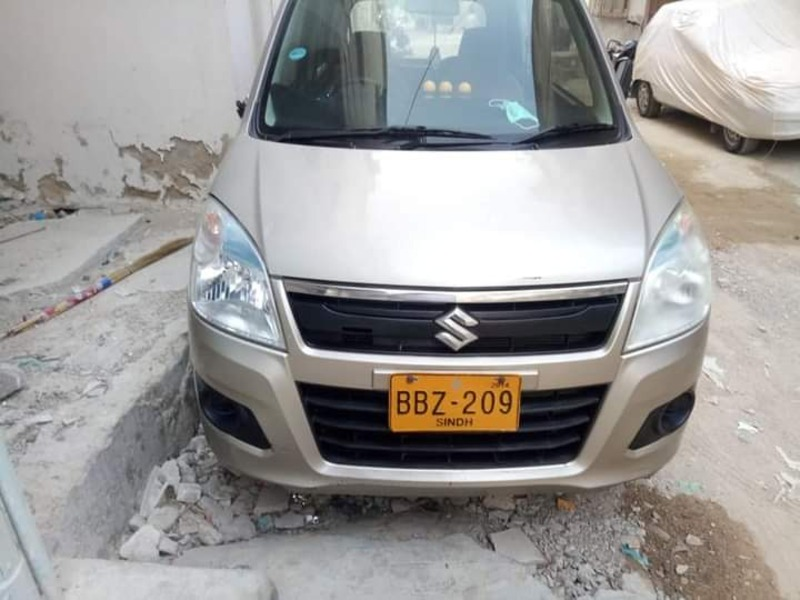License Plate: (385, 368, 524, 433)
